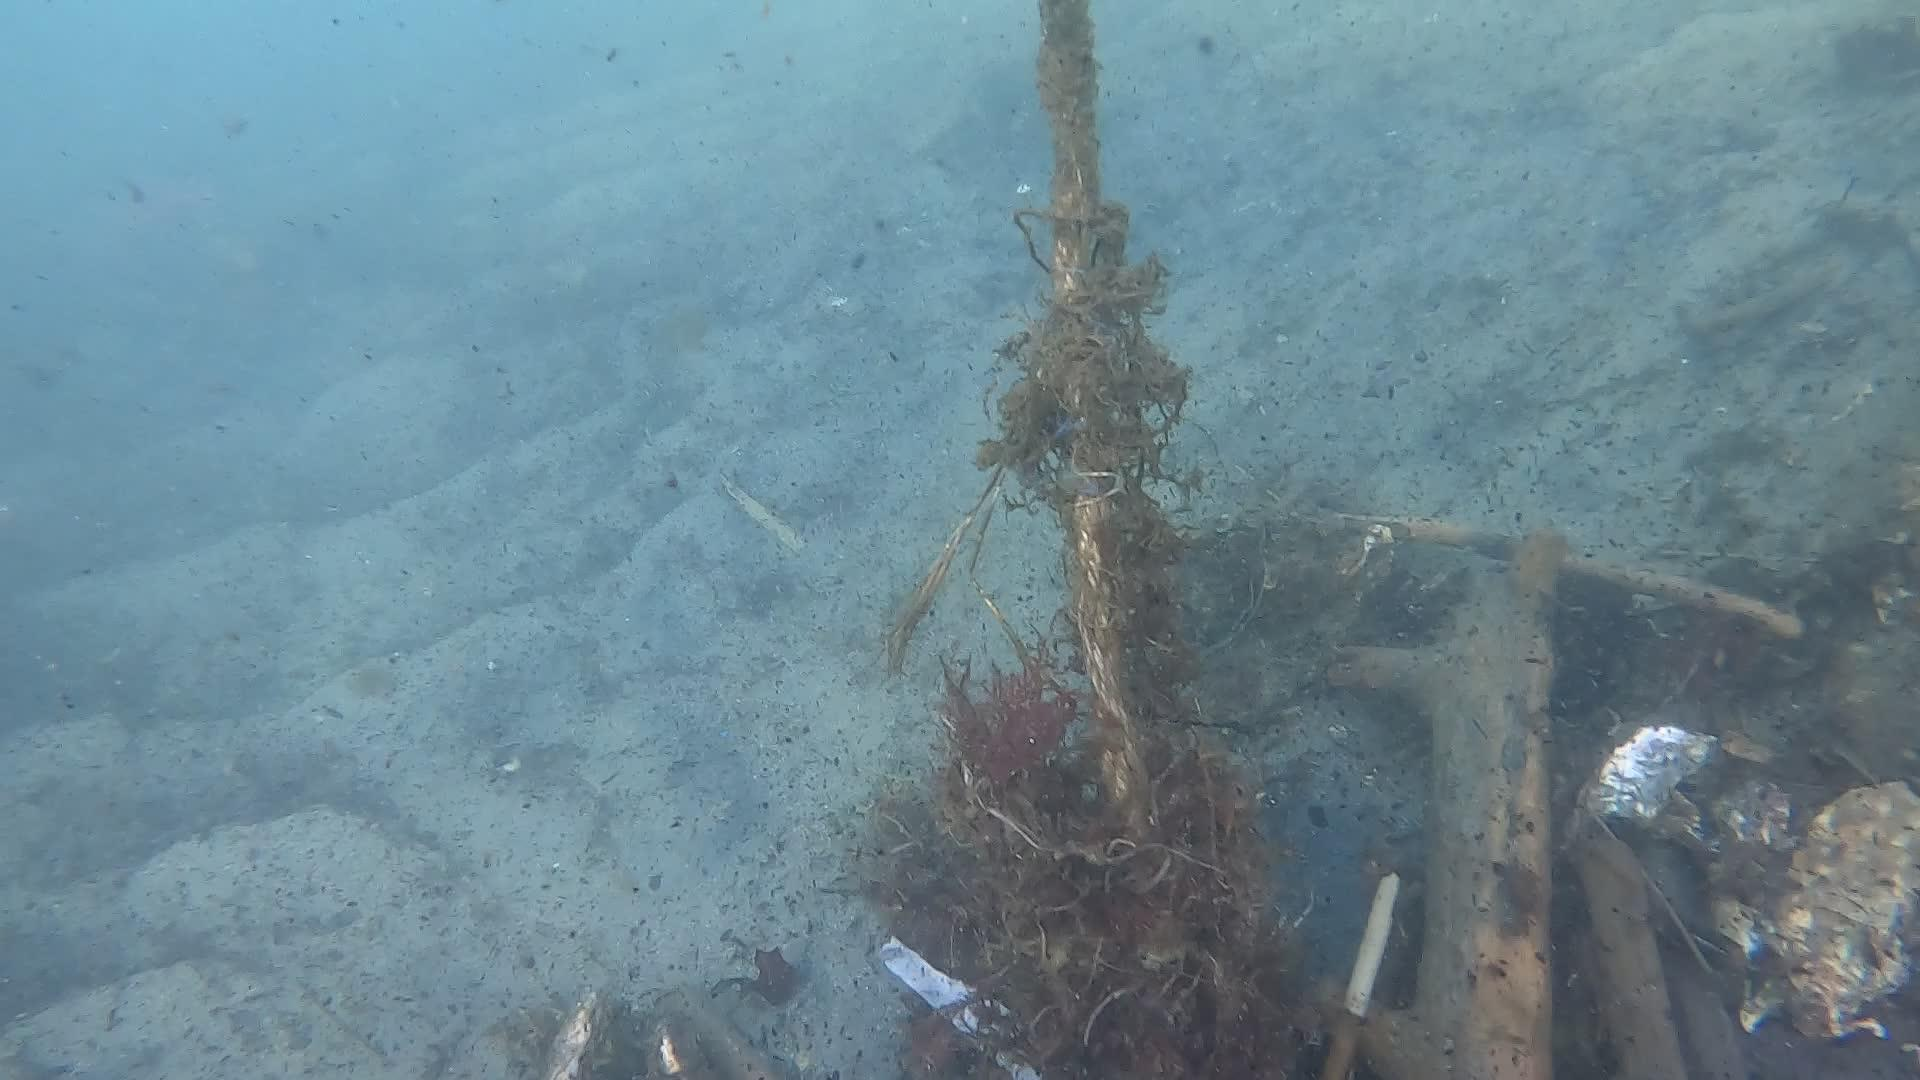bundle of ropes: (972, 3, 1262, 1080)
wood: (1305, 514, 1749, 1072)
